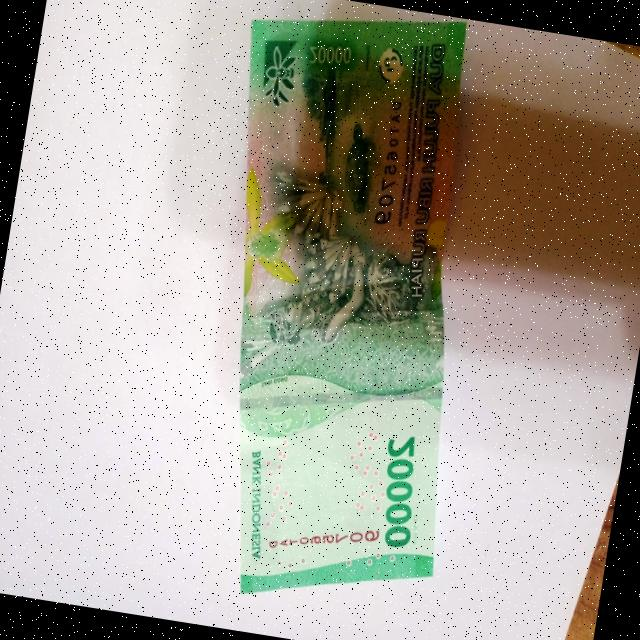20K: (158, 0, 523, 626)
